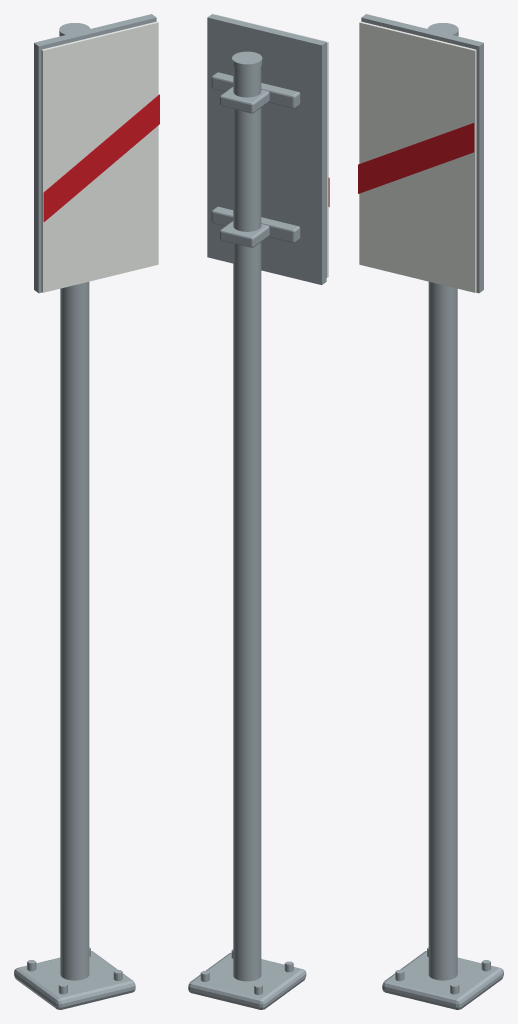
The model's file is DS_Sign_RailwayDist1_R.fbx.
3 views of the same model, side by side, from view 1: azimuth 30°, elevation 25°; view 2: azimuth 150°, elevation 25°; view 3: azimuth 330°, elevation 25° (orthographic). The views are drawn at different scales.
Parts seen in each view (by area): view 1: Face_Field.004, Post.006, Stripe_0.002, BasePlate.006, Plate_Back.009; view 2: Post.006, Plate_Back.009, BasePlate.006, RearRail.014, RearRail.013, Face_Field.004, PostClamp.014, PostClamp.013, PostCap.006; view 3: Face_Field.004, Post.006, BasePlate.006, Stripe_0.002, Plate_Back.009.
Boxes of the visible parts, x1=… form: Face_Field.004: x1=41, y1=21, x2=158, y2=292; Post.006: x1=60, y1=281, x2=89, y2=980; Stripe_0.002: x1=43, y1=94, x2=159, y2=221; BasePlate.006: x1=14, y1=951, x2=135, y2=1009; Plate_Back.009: x1=34, y1=14, x2=156, y2=293; Post.006: x1=233, y1=66, x2=261, y2=981; Plate_Back.009: x1=207, y1=14, x2=326, y2=284; BasePlate.006: x1=188, y1=952, x2=306, y2=1009; RearRail.014: x1=211, y1=72, x2=300, y2=108; RearRail.013: x1=211, y1=206, x2=300, y2=242; Face_Field.004: x1=216, y1=14, x2=328, y2=277; PostClamp.014: x1=220, y1=86, x2=269, y2=113; PostClamp.013: x1=220, y1=221, x2=269, y2=247; PostCap.006: x1=232, y1=51, x2=262, y2=69; Face_Field.004: x1=359, y1=21, x2=476, y2=292; Post.006: x1=428, y1=281, x2=457, y2=980; BasePlate.006: x1=382, y1=951, x2=503, y2=1009; Stripe_0.002: x1=358, y1=123, x2=474, y2=193; Plate_Back.009: x1=361, y1=14, x2=483, y2=293.
Bounding box in the file's own units: 35.7 × 281 × 26.2.
